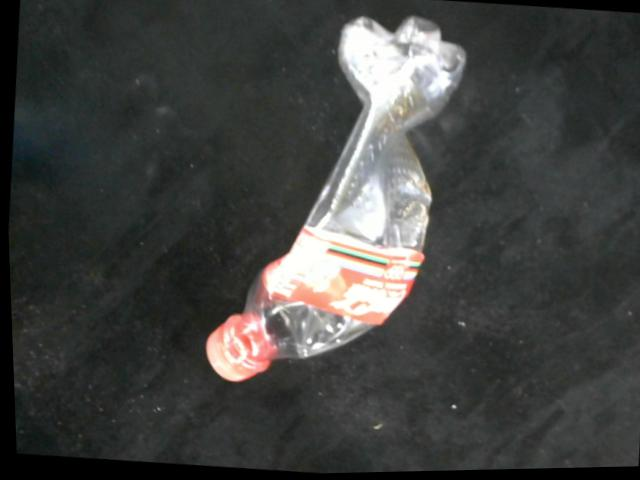bottle: (202, 16, 466, 382)
